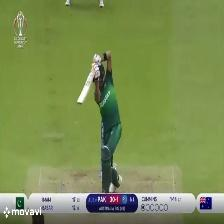batsman: (77, 49, 131, 191)
